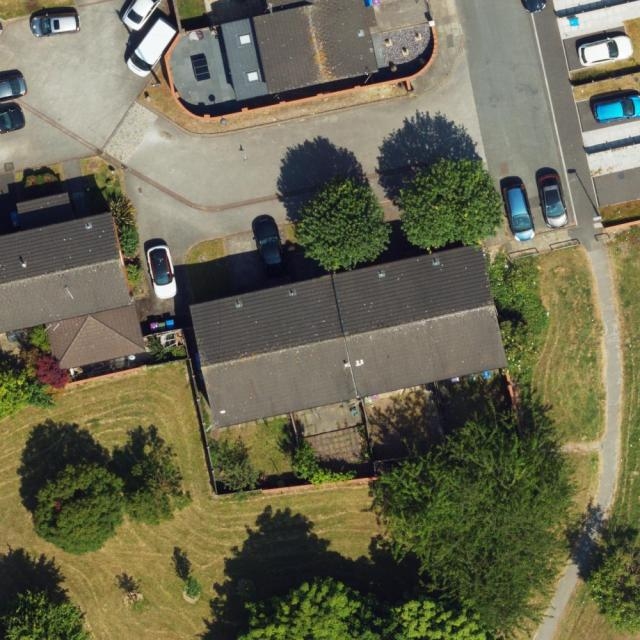roof: (190, 242, 509, 430), (0, 191, 146, 373), (220, 0, 381, 109)
skylight: (236, 32, 254, 51), (245, 69, 262, 86)
